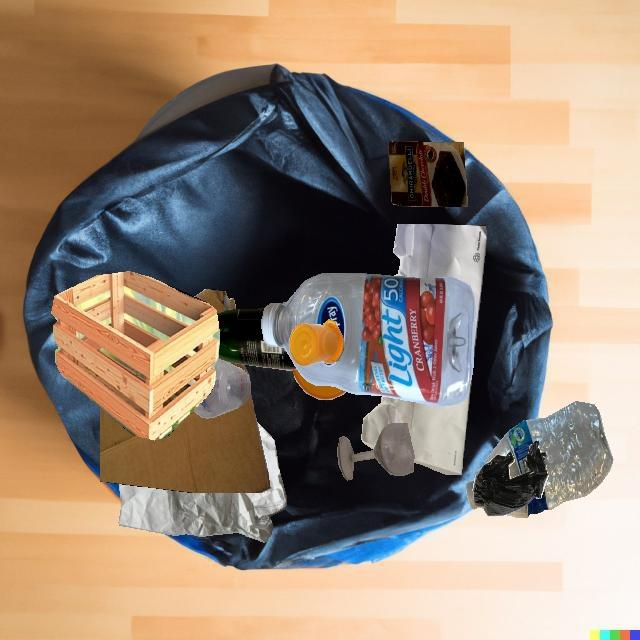cardboard: (100, 392, 270, 493), (388, 141, 468, 207)
combustible waste: (51, 271, 220, 440)
glass: (217, 308, 297, 370), (337, 423, 414, 480)
paper: (118, 421, 286, 542), (393, 224, 487, 368), (361, 374, 472, 475)
plastic: (261, 273, 475, 407), (484, 401, 613, 517), (473, 441, 548, 516), (193, 358, 251, 418), (289, 319, 344, 366), (292, 369, 346, 400)
